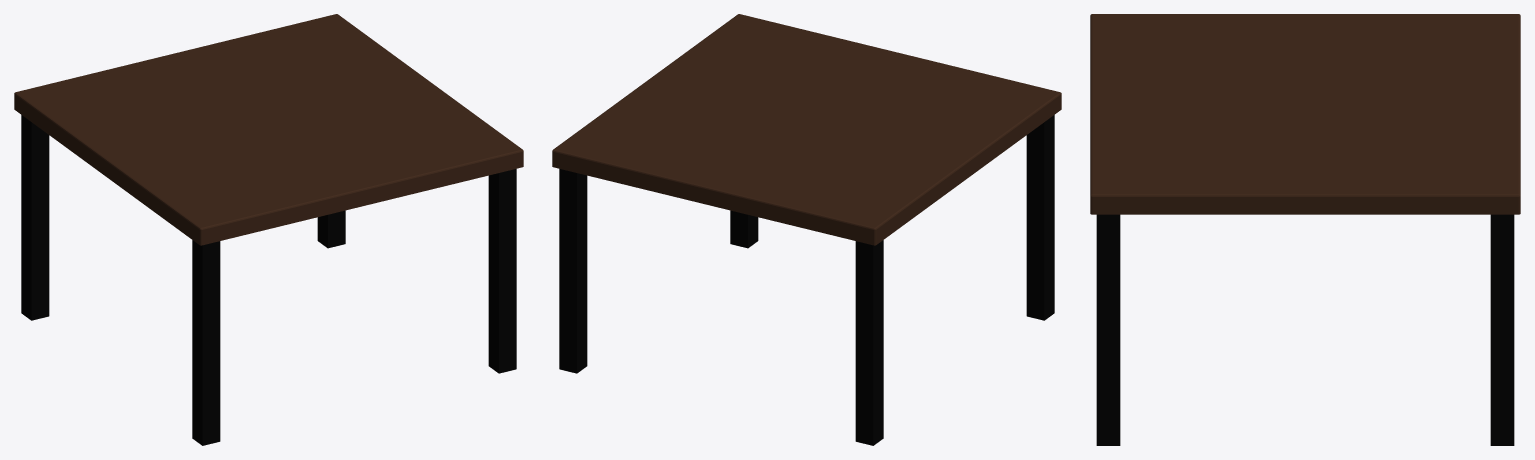
Rendered from Table.fbx.
3 renders of one model, left to right at view 1: azimuth 30°, elevation 25°; view 2: azimuth 150°, elevation 25°; view 3: azimuth 270°, elevation 25°, orthographic. The views are drawn at different scales.
Parts seen in each view (by area): view 1: Cube; view 2: Cube; view 3: Cube.
Boxes of the visible parts, bbox=[...] form: Cube: bbox=[14, 14, 523, 445]; Cube: bbox=[552, 14, 1061, 445]; Cube: bbox=[1090, 14, 1520, 445].
Bounding box in the file's own units: 2000 × 1300 × 2000.
